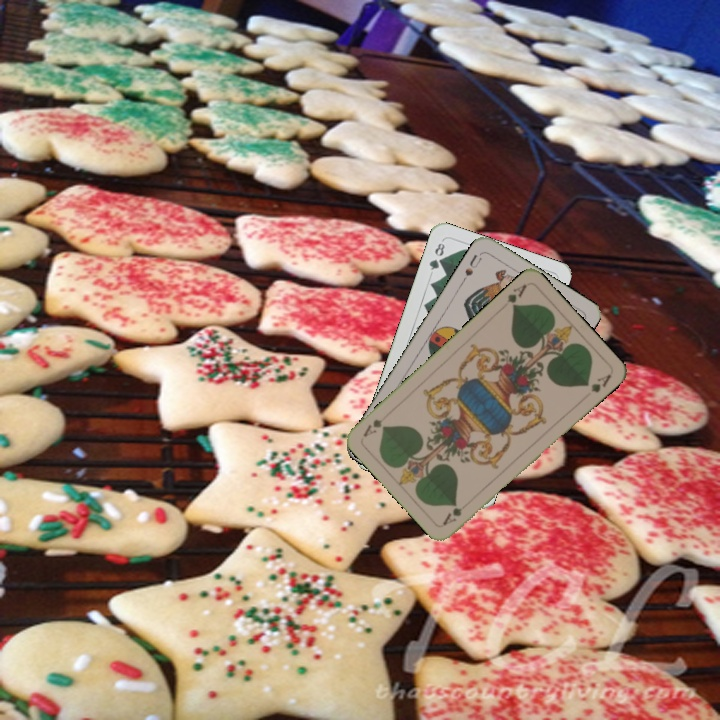G8: (425, 239, 447, 273)
GA: (503, 280, 530, 311), (439, 503, 464, 528)
SU: (458, 249, 484, 285)
